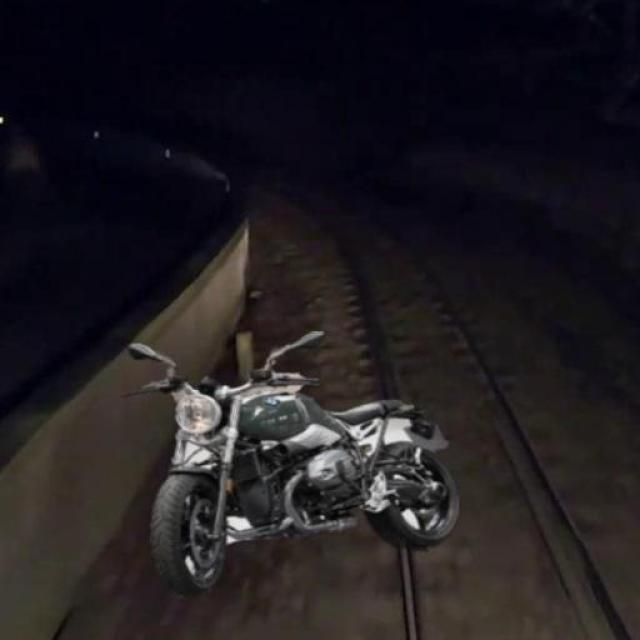vehicle: (120, 331, 474, 590)
